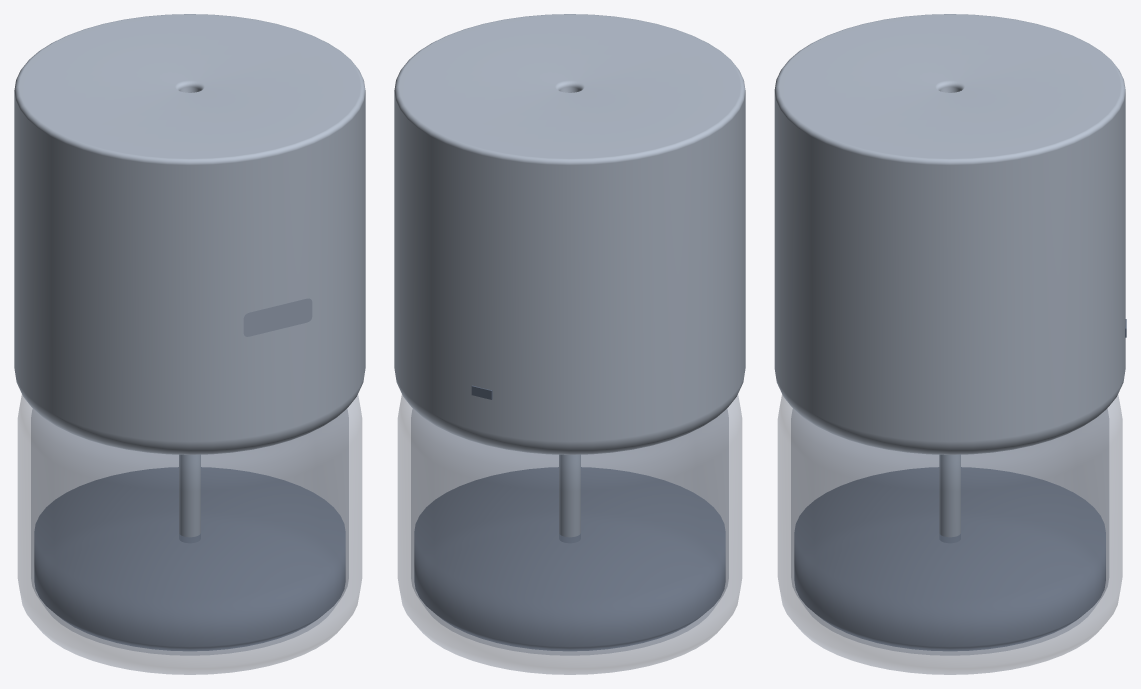
The model's file is aroma-diffuser-lite.glb.
3 views of the same model, side by side, from view 1: azimuth 30°, elevation 25°; view 2: azimuth 150°, elevation 25°; view 3: azimuth 270°, elevation 25° (orthographic).
Visible parts, largest first — view 1: aroma-diffuser-body, aroma-diffuser-bottle, aroma-diffuser-liquid, aroma-diffuser-tube, aroma-diffuser-metal; view 2: aroma-diffuser-body, aroma-diffuser-bottle, aroma-diffuser-liquid, aroma-diffuser-tube; view 3: aroma-diffuser-body, aroma-diffuser-bottle, aroma-diffuser-liquid, aroma-diffuser-tube.
Boxes of the visible parts, x1,y1,x2,y2 form: aroma-diffuser-body: (14, 14, 365, 454); aroma-diffuser-bottle: (18, 395, 361, 674); aroma-diffuser-liquid: (34, 467, 345, 651); aroma-diffuser-tube: (179, 454, 200, 537); aroma-diffuser-metal: (243, 298, 312, 336); aroma-diffuser-body: (394, 14, 745, 454); aroma-diffuser-bottle: (398, 395, 741, 674); aroma-diffuser-liquid: (414, 467, 725, 651); aroma-diffuser-tube: (559, 454, 580, 537); aroma-diffuser-body: (774, 14, 1125, 454); aroma-diffuser-bottle: (778, 394, 1122, 674); aroma-diffuser-liquid: (794, 467, 1105, 651); aroma-diffuser-tube: (939, 454, 960, 537).
Size of the model in its own units: 0.106 by 0.1745 by 0.1064.
